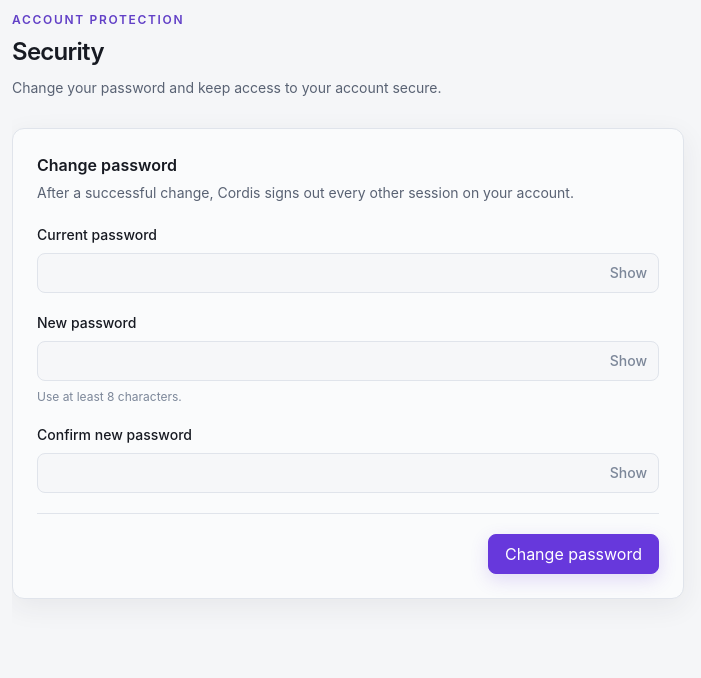
user account and security settings › validates and submits a password change
The width and height of the screenshot is (701, 678).
Type "current-password" into the password field labelled "Current password Show" at {"x": 348, "y": 273}, box left=37, top=253, right=659, bottom=293
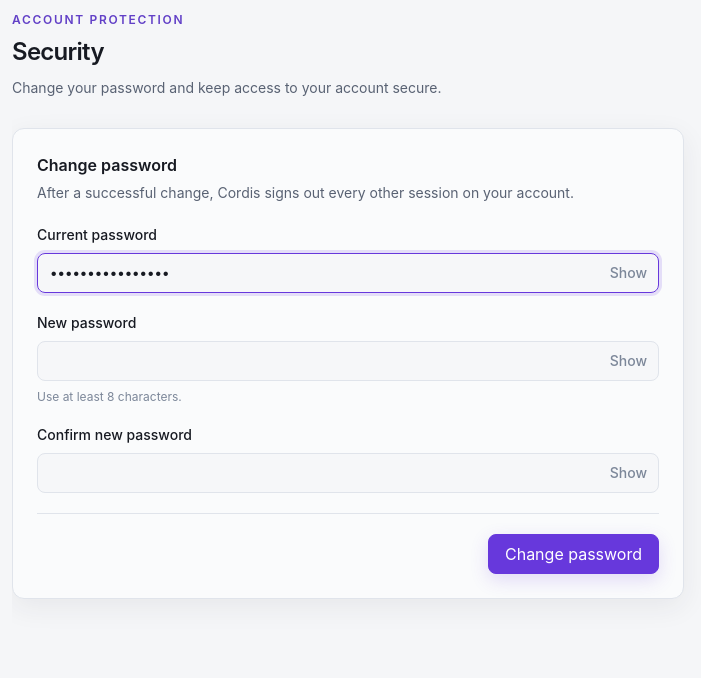
Type "new-password" into the password field labelled "New password Show Use at least 8 characters." at {"x": 348, "y": 361}, box left=37, top=341, right=659, bottom=381
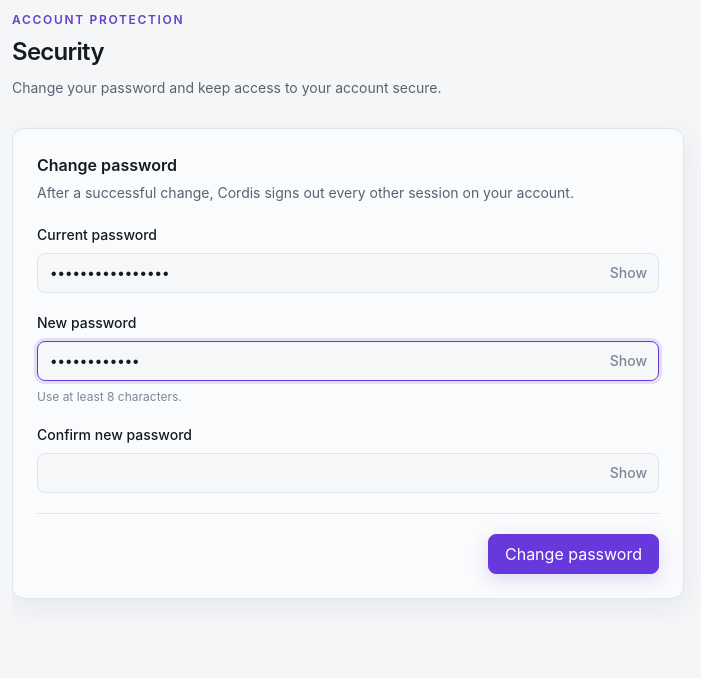
Type "new-password" into the password field labelled "Confirm new password Show" at {"x": 348, "y": 473}, box left=37, top=453, right=659, bottom=493
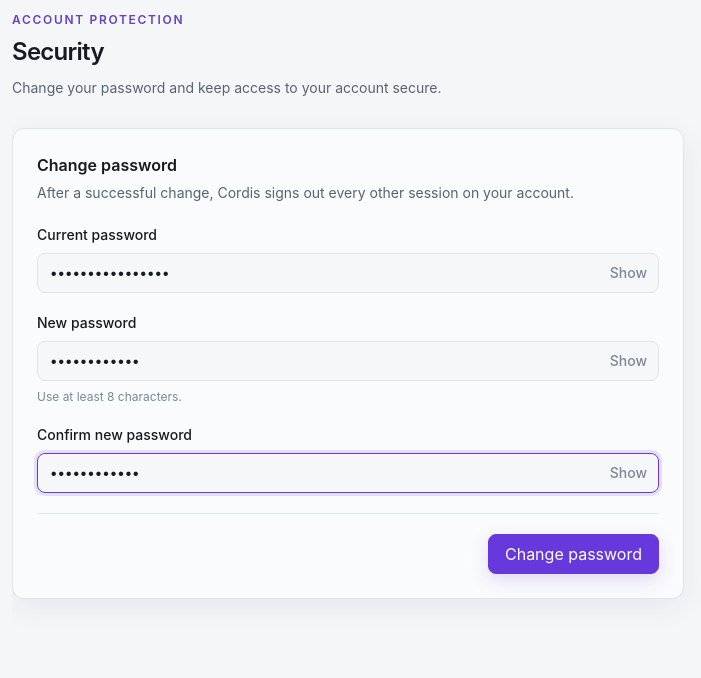
Click the button "Change password" at {"x": 574, "y": 554}, box left=488, top=534, right=659, bottom=574
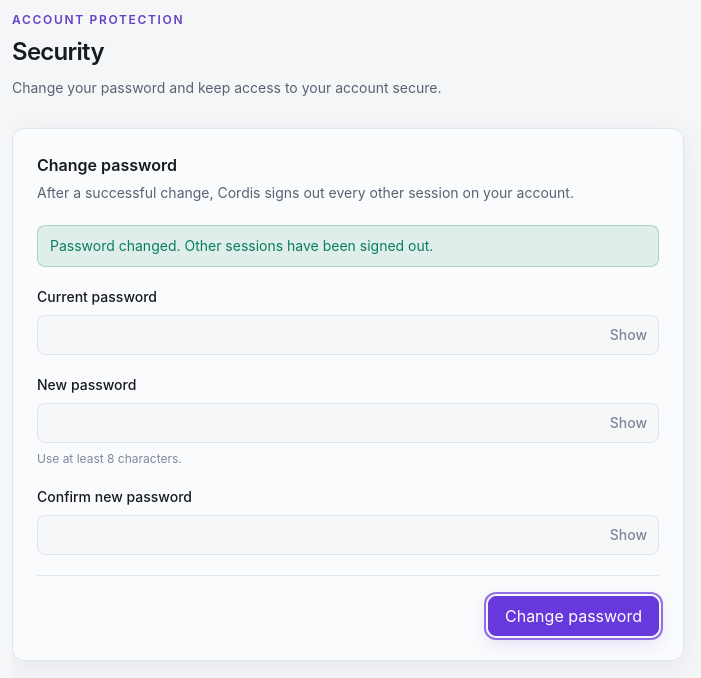
expect the message shows "Password changed.": met, box left=50, top=237, right=433, bottom=254
expect the password field labelled "Current password Show" is empty: met, box left=37, top=315, right=659, bottom=355
expect the password field labelled "New password Show Use at least 8 characters." is empty: met, box left=37, top=403, right=659, bottom=443
